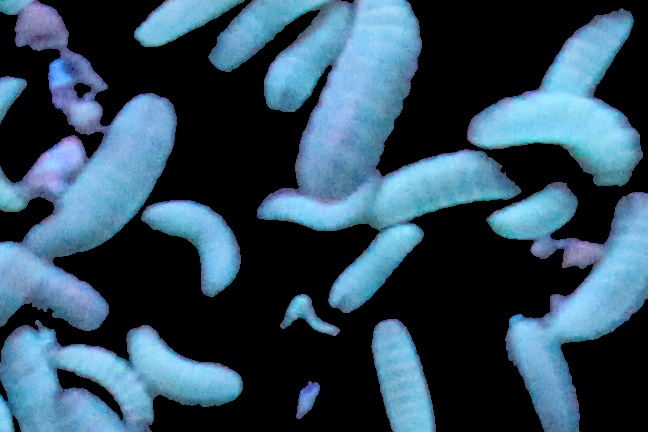larvae: (295, 1, 422, 195), (33, 93, 177, 258), (466, 93, 642, 186), (549, 193, 648, 345), (362, 147, 521, 224), (262, 1, 355, 114), (143, 200, 242, 298), (127, 326, 244, 408), (209, 1, 340, 71), (503, 316, 581, 432), (537, 7, 635, 94), (328, 225, 426, 312), (51, 343, 152, 425), (372, 320, 438, 432), (255, 177, 381, 233), (1, 327, 61, 432), (31, 260, 109, 333), (485, 182, 579, 240), (133, 1, 246, 48), (1, 75, 28, 213), (55, 391, 123, 432)
